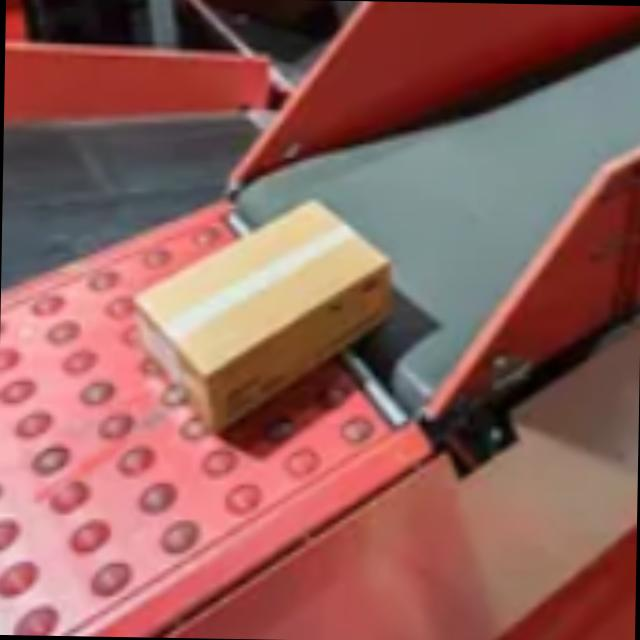box: (128, 198, 388, 430)
